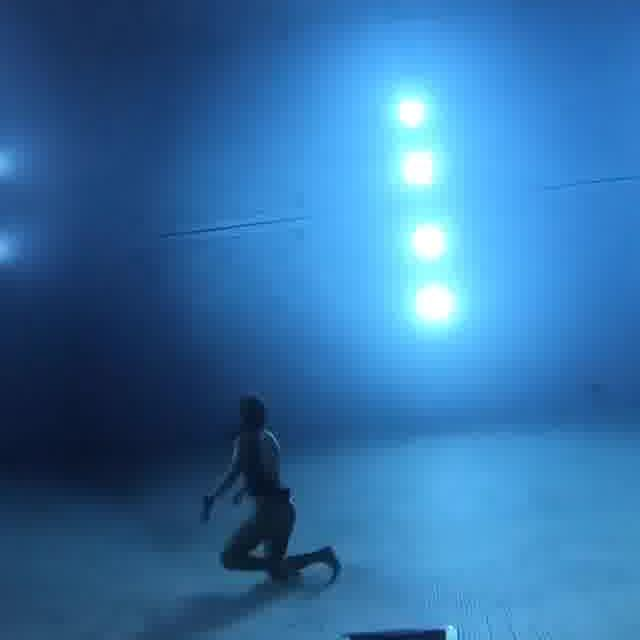human: (191, 380, 349, 590)
